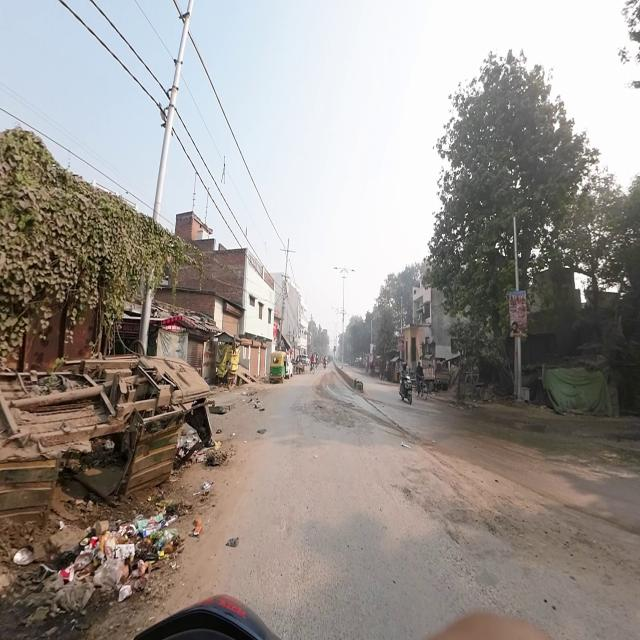Garbage: (14, 534, 170, 616), (130, 502, 208, 526), (183, 434, 234, 468), (191, 476, 218, 497), (248, 396, 266, 411)
